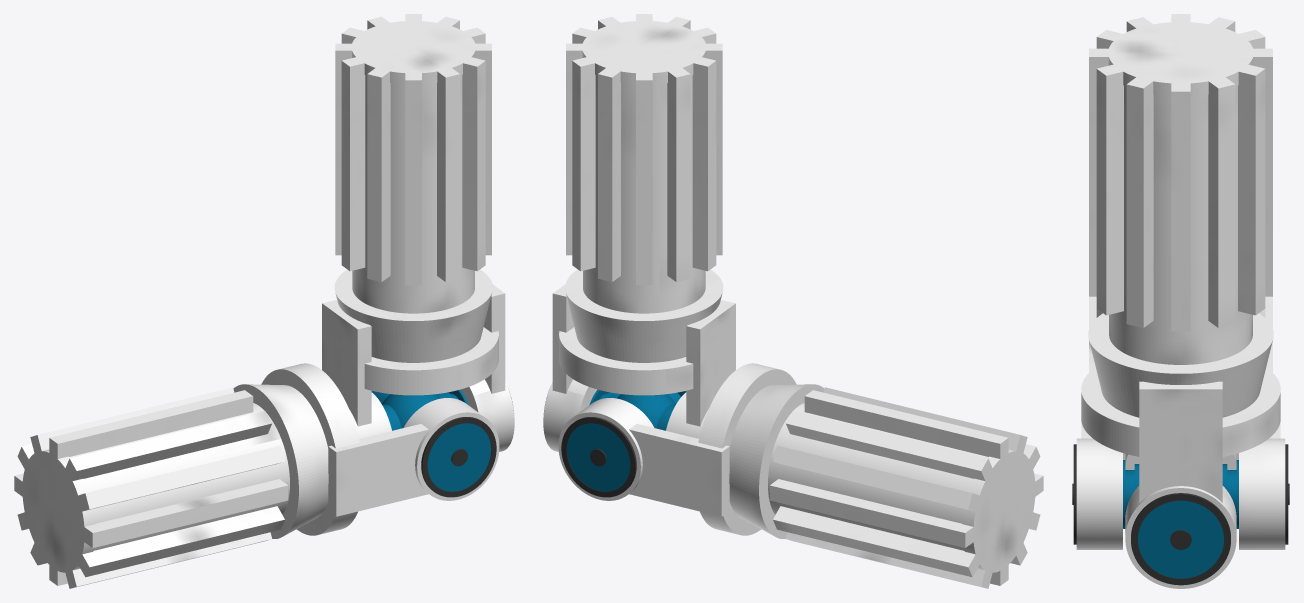
The model's file is universal_joint__0004.glb.
3 views of the same model, side by side, from view 1: azimuth 30°, elevation 25°; view 2: azimuth 150°, elevation 25°; view 3: azimuth 270°, elevation 25° (orthographic). The views are drawn at different scales.
Parts seen in each view (by area): view 1: shaft_yoke_b::shaft_yoke, shaft_yoke_a::shaft_yoke, shaft_yoke_a::cap_neg, shaft_yoke_a::retaining_ring_neg, spider::spider_center; view 2: shaft_yoke_b::shaft_yoke, shaft_yoke_a::shaft_yoke, shaft_yoke_a::cap_pos, shaft_yoke_a::retaining_ring_pos, spider::spider_center; view 3: shaft_yoke_b::shaft_yoke, shaft_yoke_a::shaft_yoke, shaft_yoke_b::cap_pos, shaft_yoke_b::retaining_ring_pos, spider::journal_y, shaft_yoke_a::retaining_ring_neg, shaft_yoke_a::retaining_ring_pos, shaft_yoke_b::cap_dimple_pos.
Part boxes in pixels (x1,y1,x2,y2): shaft_yoke_b::shaft_yoke: (322,14,514,451); shaft_yoke_a::shaft_yoke: (14,363,499,588); shaft_yoke_a::cap_neg: (427,423,491,491); shaft_yoke_a::retaining_ring_neg: (421,417,496,497); spider::spider_center: (382,394,440,428); shaft_yoke_b::shaft_yoke: (543,14,735,451); shaft_yoke_a::shaft_yoke: (558,363,1043,588); shaft_yoke_a::cap_pos: (566,423,630,491); shaft_yoke_a::retaining_ring_pos: (561,417,636,497); spider::spider_center: (617,394,675,428); shaft_yoke_b::shaft_yoke: (1081,14,1280,588); shaft_yoke_a::shaft_yoke: (1076,296,1285,549); shaft_yoke_b::cap_pos: (1138,500,1223,578); shaft_yoke_b::retaining_ring_pos: (1131,493,1230,585); spider::journal_y: (1125,464,1236,514); shaft_yoke_a::retaining_ring_neg: (1073,444,1076,544); shaft_yoke_a::retaining_ring_pos: (1285,444,1288,544); shaft_yoke_b::cap_dimple_pos: (1170,530,1191,549).
Bounding box in the file's own units: 0.1284 × 0.1265 × 0.0468.
3 materials, 2 textured.
